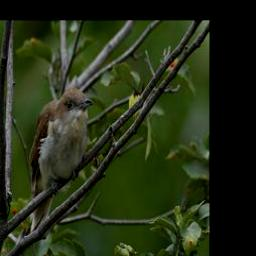Cuckoo: (27, 86, 93, 233)
